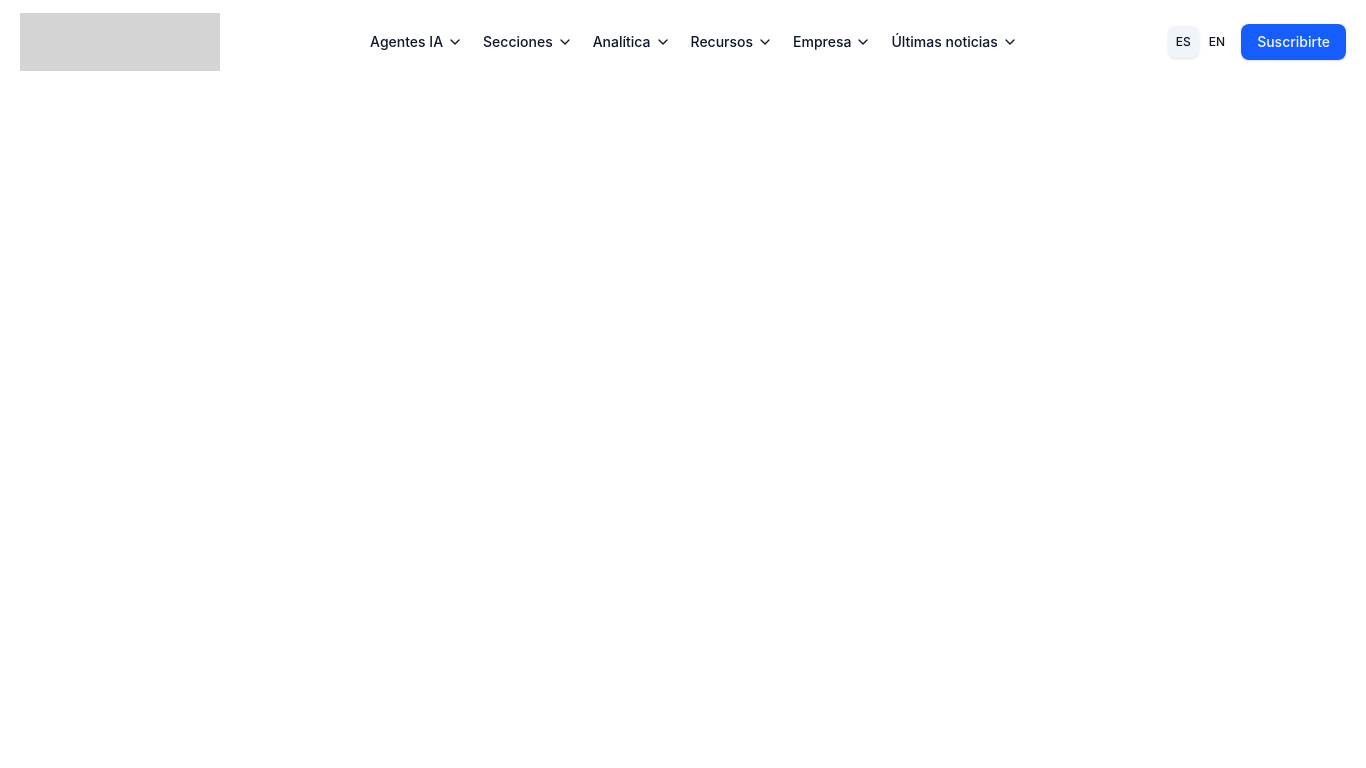
Test case: Header dropdowns › opens and closes Agentes IA
Click the button "Agentes IA" at [417, 42], box x1=362 y1=24 x2=471 y2=60
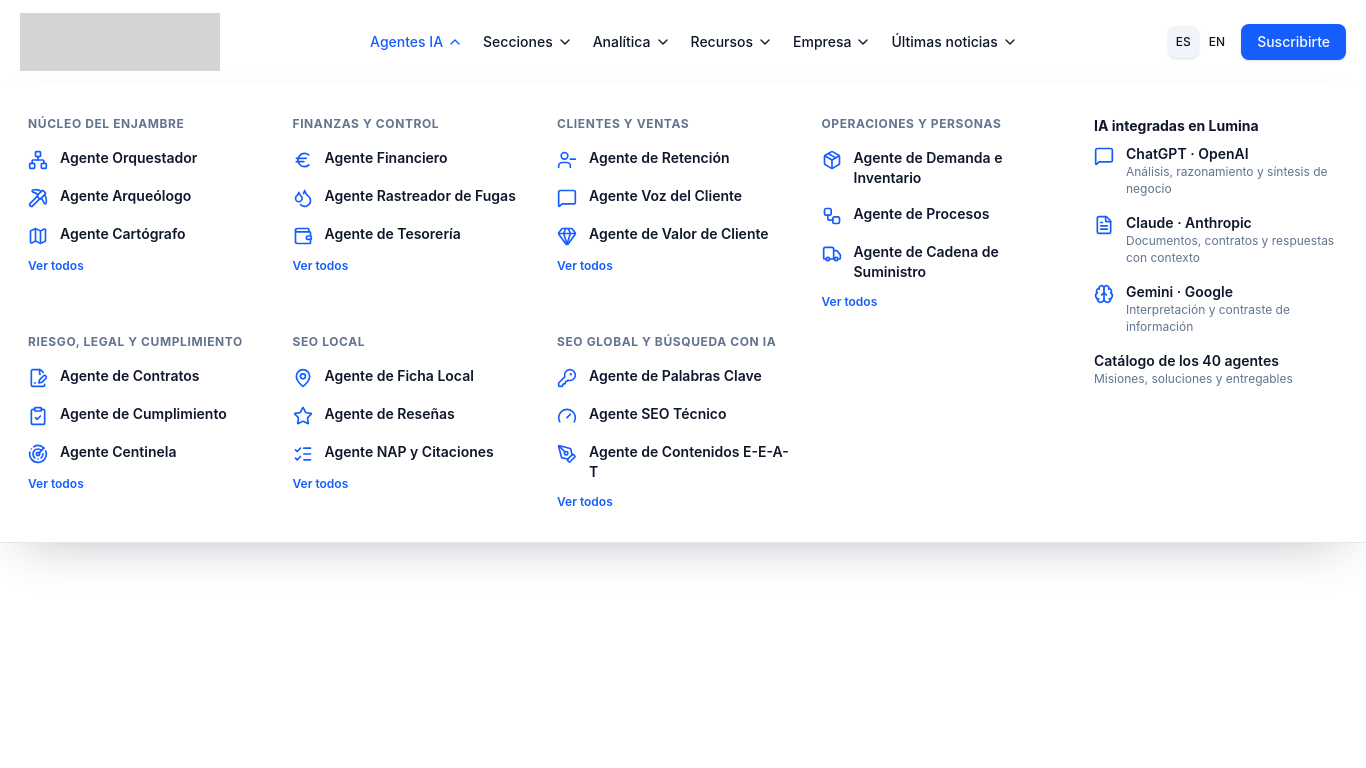
Check: the button "Agentes IA" is expanded, box x1=362 y1=24 x2=471 y2=60
Check: the link "Agente Orquestador" is shown, box x1=28 y1=149 x2=197 y2=170
Press Escape
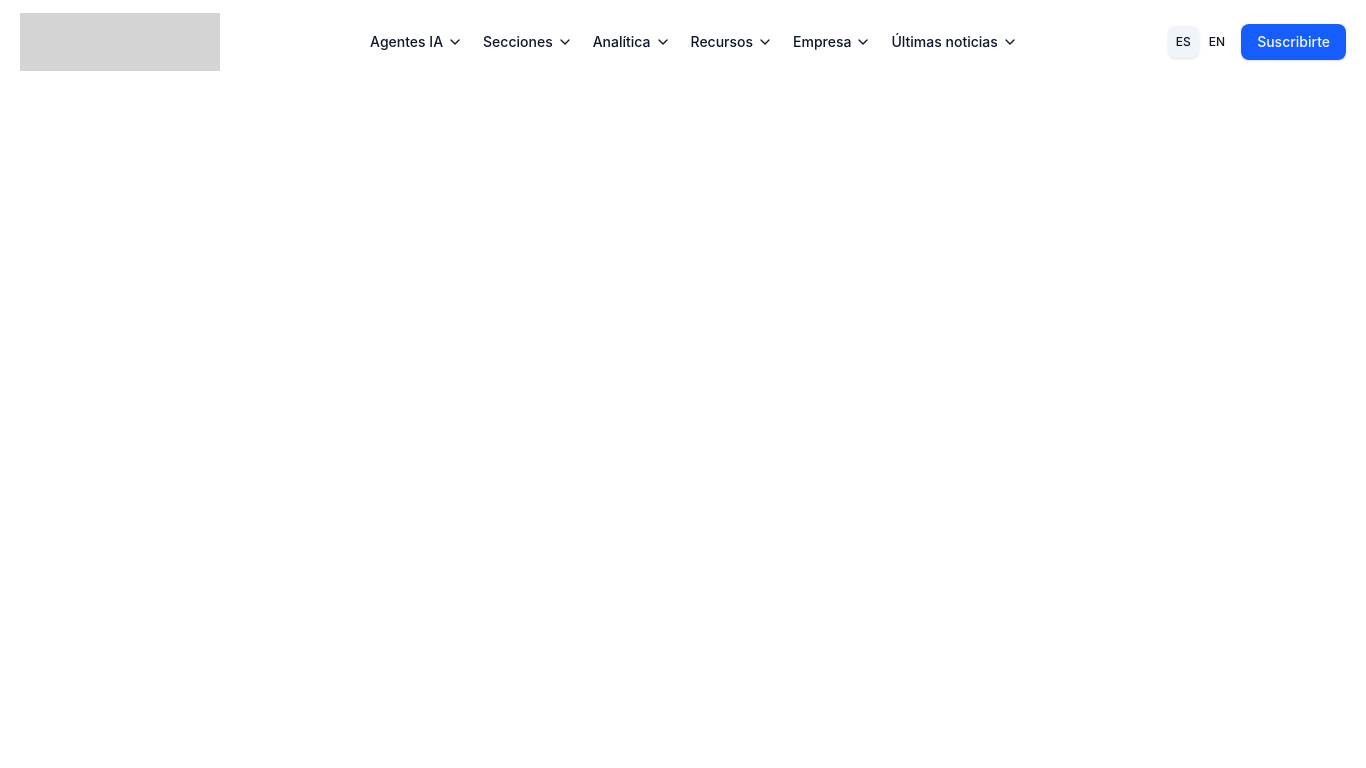
Check: the button "Agentes IA" is collapsed, box x1=362 y1=24 x2=471 y2=60
